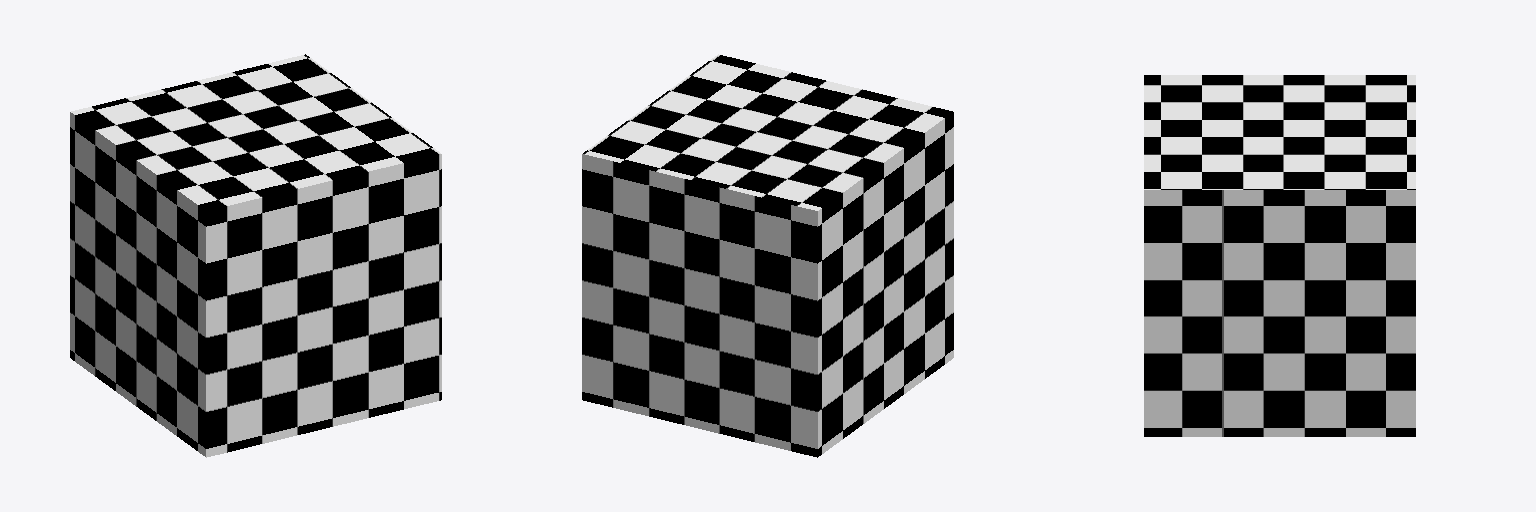
3 renders of one model, left to right at view 1: azimuth 30°, elevation 25°; view 2: azimuth 150°, elevation 25°; view 3: azimuth 270°, elevation 25°, orthographic.
Parts seen in each view (by area): view 1: Cube; view 2: Cube; view 3: Cube.
Boxes of the visible parts, <box> form: Cube: <box>70,54,441,457</box>; Cube: <box>582,54,953,457</box>; Cube: <box>1144,75,1415,436</box>.
Bounding box in the file's own units: 1 × 1 × 1.
Materials: 1 (1 with a texture image).